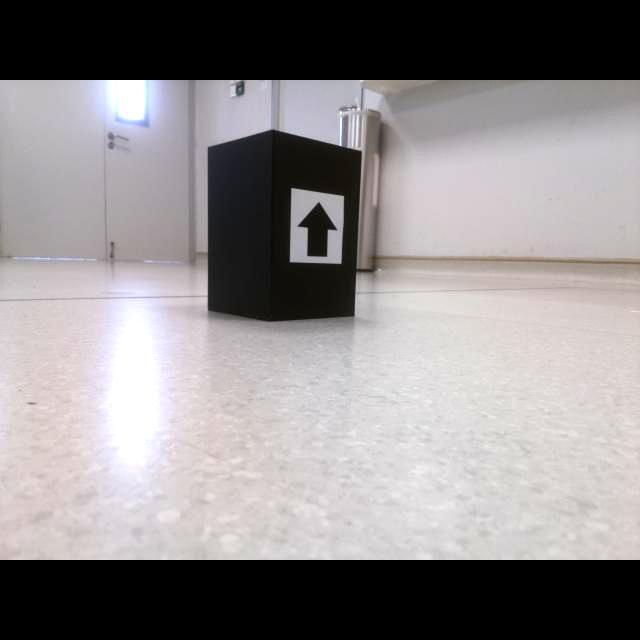UP: (295, 201, 339, 258)
